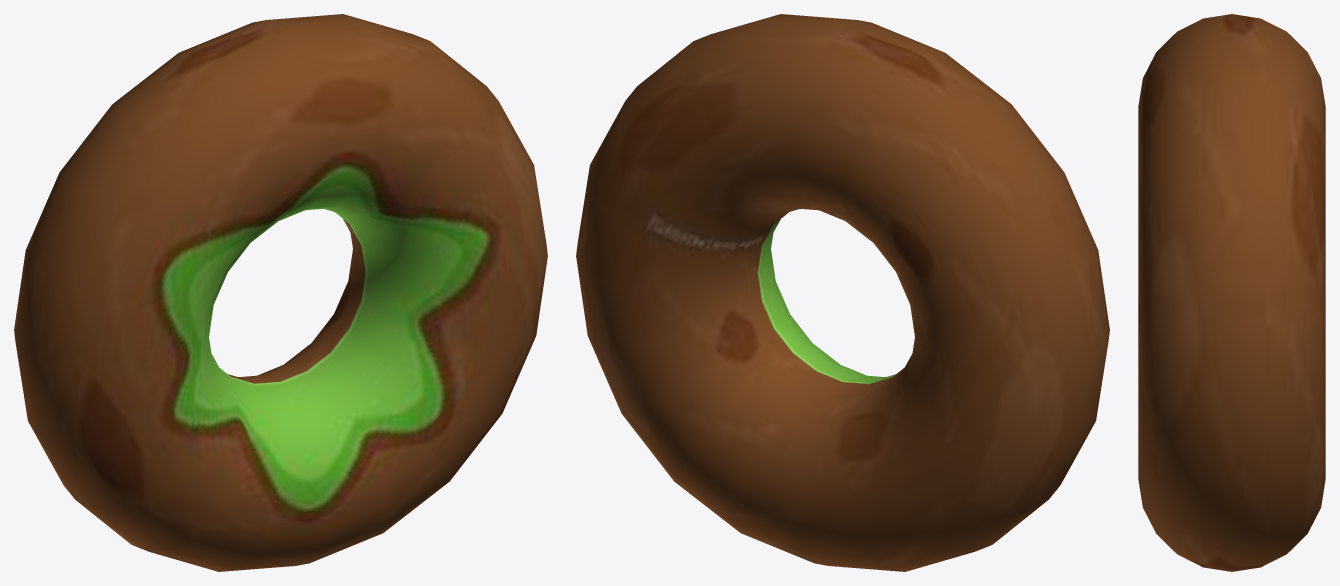
Rendered from Donuts.fbx.
3 views of the same model, side by side, from view 1: azimuth 30°, elevation 25°; view 2: azimuth 150°, elevation 25°; view 3: azimuth 270°, elevation 25° (orthographic). The views are drawn at different scales.
Visible parts, largest first — view 1: pTorus1; view 2: pTorus1; view 3: pTorus1.
Part boxes in pixels (x1,y1,x2,y2): pTorus1: (14, 14, 547, 571); pTorus1: (576, 14, 1109, 571); pTorus1: (1138, 14, 1325, 571).
Bounding box in the file's own units: 3 × 3 × 1.
Materials: 1 (1 with a texture image).
